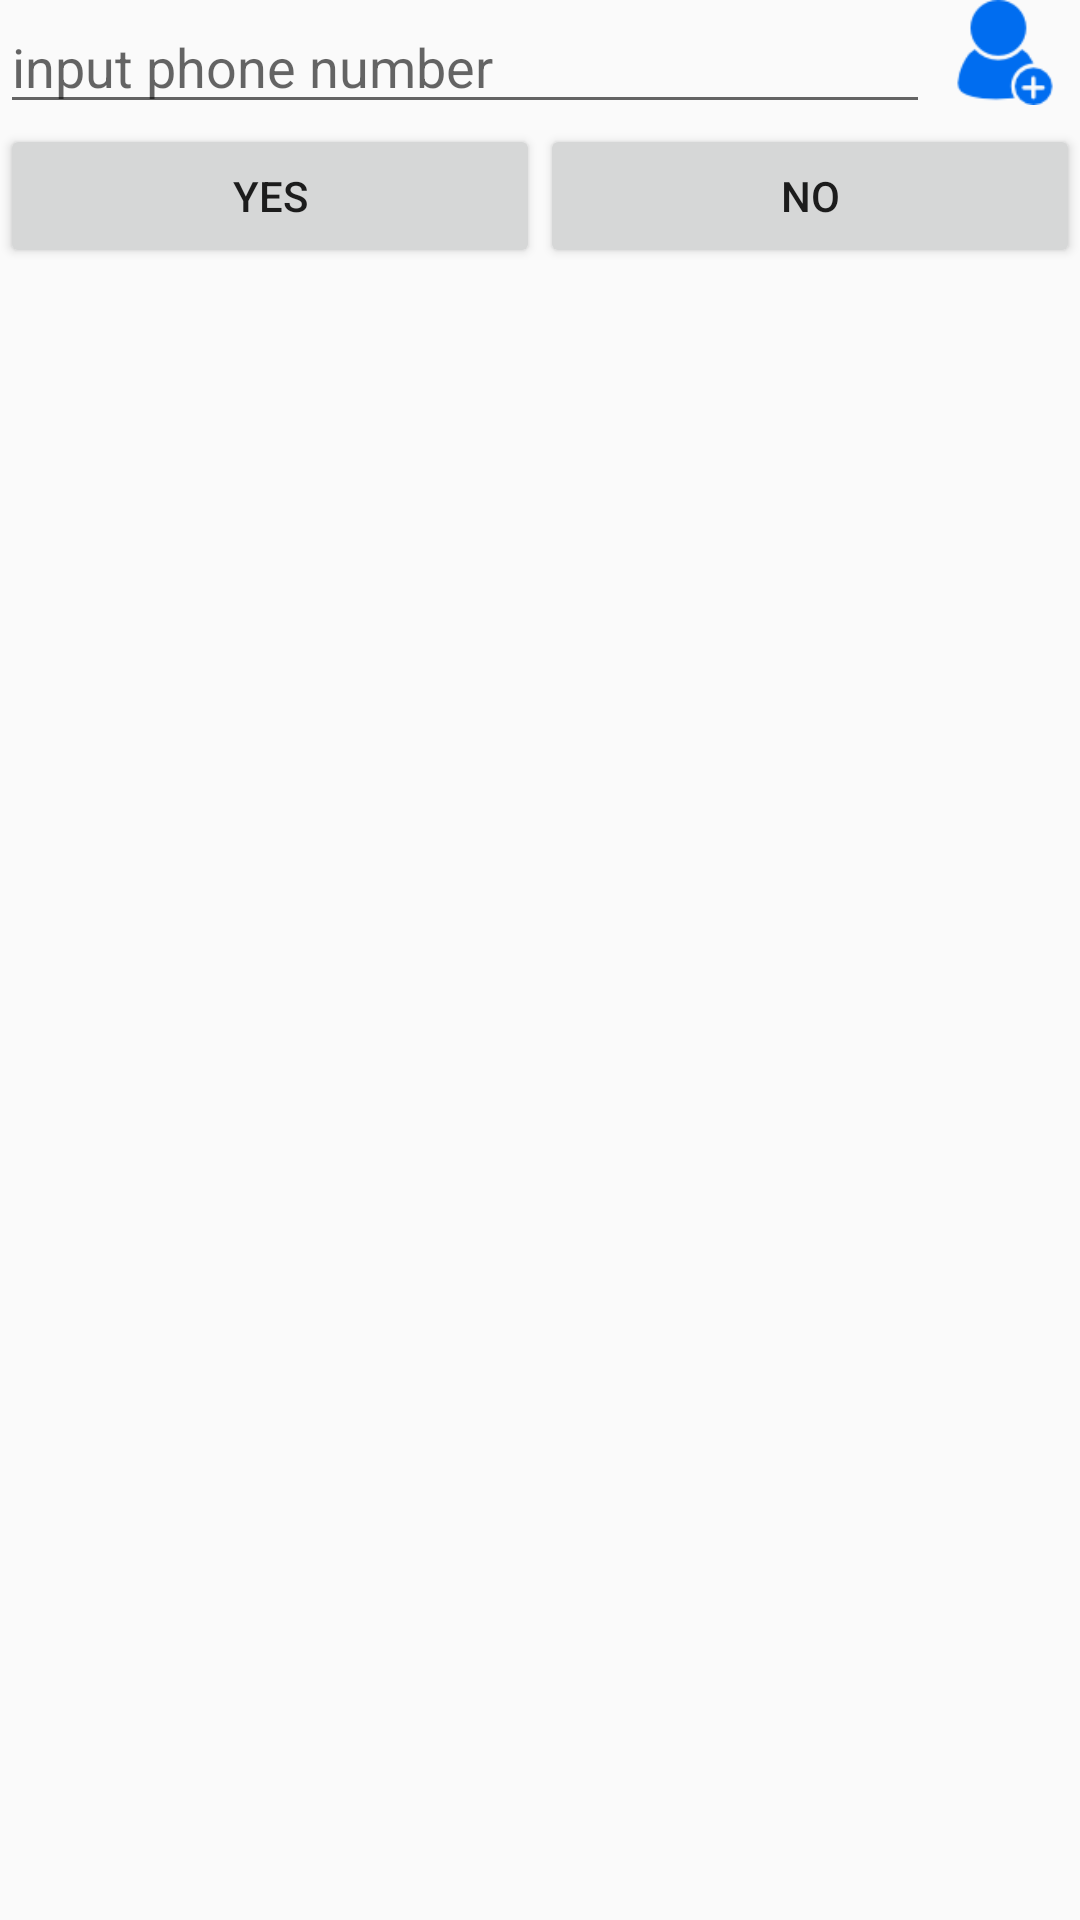

Icons on this 1080w x 1920h Android screen, each with the point to tap as (x,y):
contact: (1005,52)
